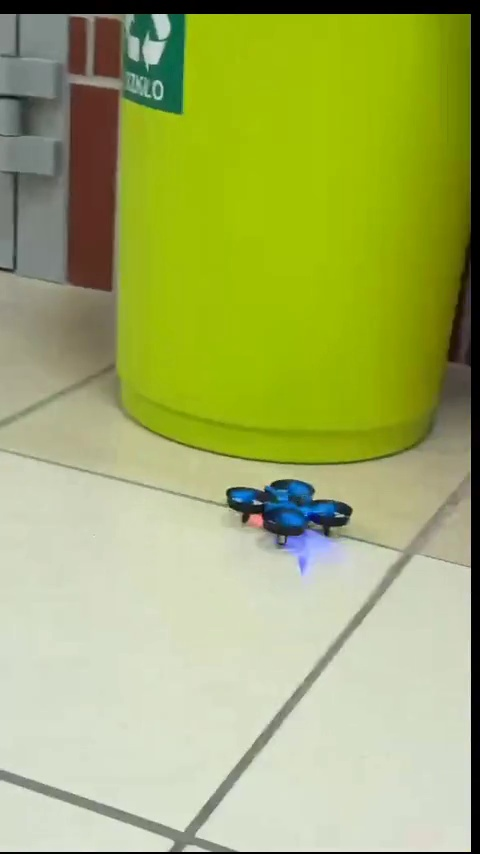drone: (220, 473, 354, 555)
